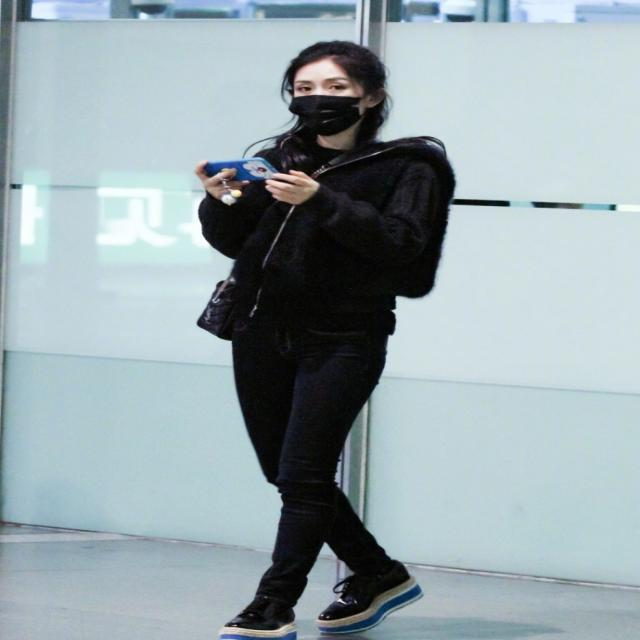mask: (293, 59, 362, 136)
